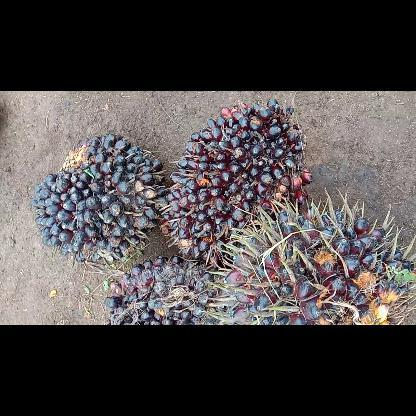TBS mentah: (160, 96, 314, 266), (214, 200, 416, 324), (30, 130, 166, 268), (103, 252, 231, 324)
